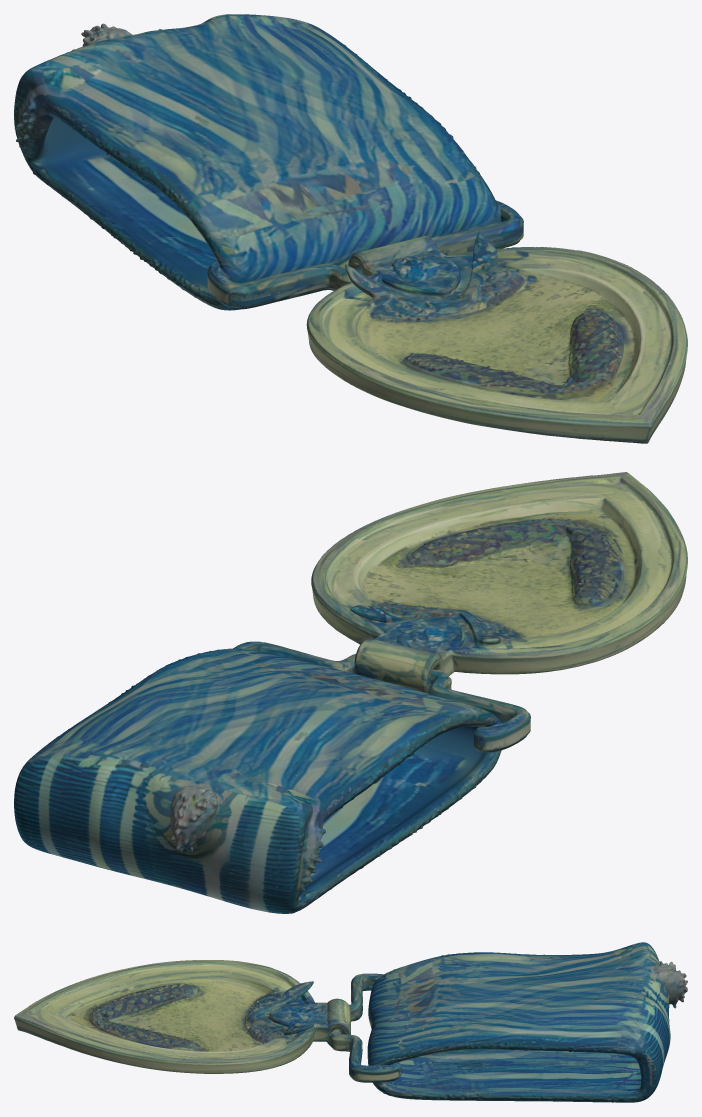
The model's file is 八百壮士忠贞奖章.glb.
3 renders of one model, top to bottom at view 1: azimuth 30°, elevation 25°; view 2: azimuth 150°, elevation 25°; view 3: azimuth 270°, elevation 25°, orthographic. The views are drawn at different scales.
Visible parts, largest first — view 1: texture_pbr_v128; view 2: texture_pbr_v128; view 3: texture_pbr_v128.
Part boxes in pixels (x1,y1,x2,y2): texture_pbr_v128: (14,14,687,443); texture_pbr_v128: (14,472,687,913); texture_pbr_v128: (14,942,687,1102).
Bounding box in the file's own units: 0.4322 × 0.154 × 1.19.
Materials: 1 (1 with a texture image).
